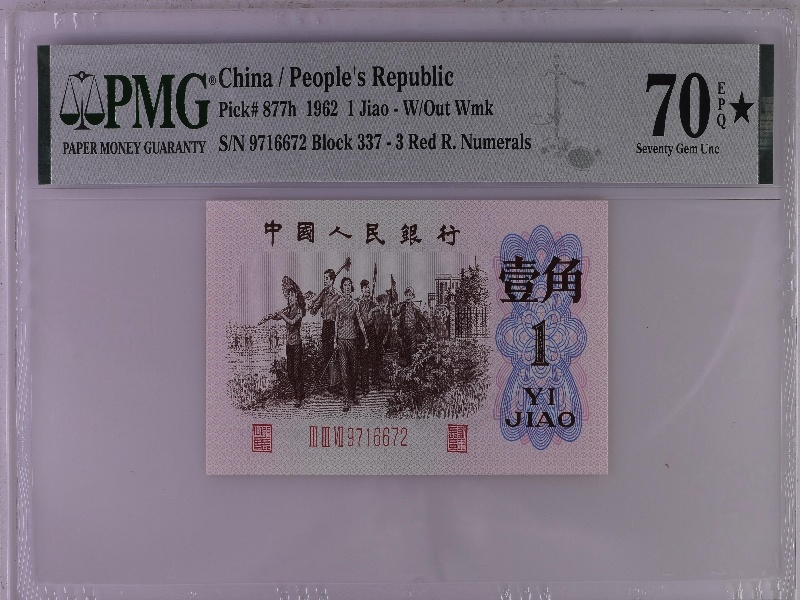papernote: (203, 197, 613, 478)
